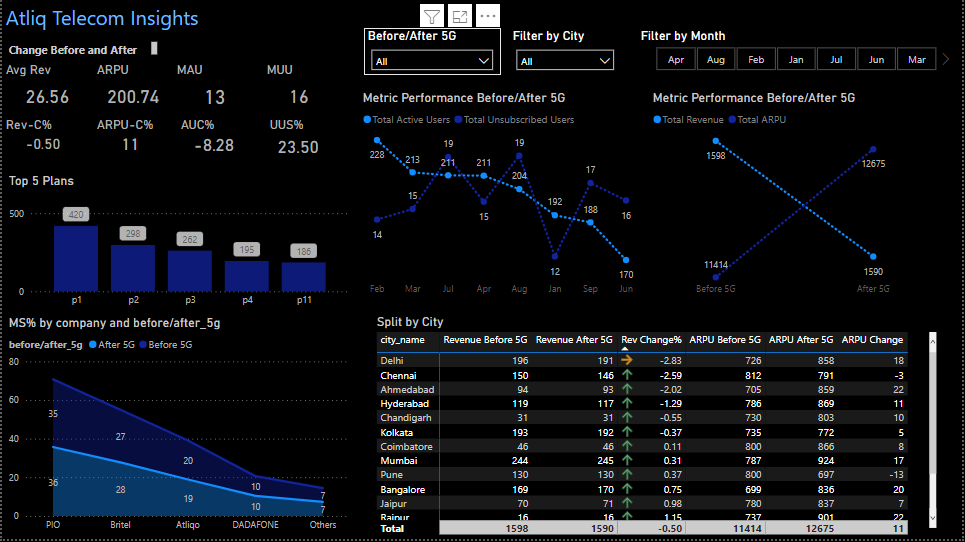

The dashboard page shown, as its layout file describes it:
{"tool":"powerbi","page":{"name":"Page 1","canvas":[1280,720],"ordinal":0},"visuals":[{"type":"card","title":"Avg Rev","fields":{"Values":["dim_cities.Avg Revenue"]},"box":[0,83.5,120.8,73.3],"z":0},{"type":"card","title":"ARPU","fields":{"Values":["dim_cities.ARPU"]},"box":[120.8,83.5,106.7,73.3],"z":1000},{"type":"card","title":"MUU","fields":{"Values":["dim_cities.Monthly Unsubscribed Users"]},"box":[348.3,83.5,95.1,73.3],"z":2000},{"type":"card","title":"Rev-C%","fields":{"Values":["dim_cities.Rev Change%"]},"box":[0,156.8,109.2,54],"z":3000},{"type":"card","title":"ARPU-C%","fields":{"Values":["dim_cities.ARPU Change"]},"box":[120.8,156.8,99,54],"z":4000},{"type":"card","title":"MAU","fields":{"Values":["dim_cities.UPM"]},"box":[227.5,83.5,110.5,73.3],"z":5000},{"type":"card","title":"AUC%","fields":{"Values":["dim_cities.Active Users Change%"]},"box":[233.9,156.8,97.7,54],"z":6000},{"type":"card","title":"UUS%","fields":{"Values":["dim_cities.Unsubscribed Users change%"]},"box":[352.1,156.8,86.1,60.4],"z":7000},{"type":"textbox","box":[4.1,52.3,207.8,31.7],"z":8000},{"type":"pivotTable","title":"Split by City","fields":{"Rows":["dim_cities.city_name"],"Values":["dim_cities.Revenue Before 5G","dim_cities.Revenue After 5G","dim_cities.Rev Change%","dim_cities.ARPU Before 5G","dim_cities.ARPU After 5G","dim_cities.ARPU Change"]},"box":[494.8,420.2,755.7,299.4],"z":9000},{"type":"slicer","title":"Before/After 5G","fields":{"Values":["dim_date.before/after_5g"]},"box":[483.2,38.6,182.5,63],"z":10000},{"type":"slicer","title":"Filter by Month","fields":{"Values":["dim_date.month_name"]},"box":[846.9,38.6,422.8,63],"z":11000},{"type":"slicer","title":"Filter by City","fields":{"Values":["dim_cities.city_name"]},"box":[676,38.6,150.4,63],"z":12000},{"type":"lineChart","title":"Metric Performance Before/After 5G","fields":{"Y":["dim_cities.Total Revenue"],"Category":["dim_date.before/after_5g"],"Y2":["dim_cities.Total ARPU"]},"box":[863,121.1,388.1,283.5],"z":13000},{"type":"lineStackedColumnComboChart","title":"Top 5 Plans","fields":{"Category":["fact_plan_revenue.plans"],"Y":["Sum(fact_plan_revenue.plan_revenue_crores)"]},"box":[3.9,232.6,465.2,187.6],"z":14000},{"type":"lineChart","title":"Metric Performance Before/After 5G","fields":{"Y":["dim_cities.Total Active Users"],"Y2":["dim_cities.Total Unsubscribed Users"],"Category":["dim_date.month_name"]},"box":[476.2,121.1,379.9,283.5],"z":15000},{"type":"stackedAreaChart","fields":{"Category":["fact_market_share.company"],"Y":["dim_cities.MS%"],"Series":["dim_date.before/after_5g"]},"box":[4,421,465,298],"z":16000},{"type":"textbox","box":[0,0,276.6,56.4],"z":16001}]}

Visuals, with their boxes in screenshot pixels (x1, y1, x2, y2), scaled from the page's 1280x720 canvas onto the 965x542 screenshot:
"Avg Rev" card: <box>0,63,91,118</box>
"ARPU" card: <box>91,63,172,118</box>
"MUU" card: <box>263,63,334,118</box>
"Rev-C%" card: <box>0,118,82,159</box>
"ARPU-C%" card: <box>91,118,166,159</box>
"MAU" card: <box>172,63,255,118</box>
"AUC%" card: <box>176,118,250,159</box>
"UUS%" card: <box>265,118,330,164</box>
textbox: <box>3,39,160,63</box>
"Split by City" pivotTable: <box>373,316,943,541</box>
"Before/After 5G" slicer: <box>364,29,502,76</box>
"Filter by Month" slicer: <box>638,29,957,76</box>
"Filter by City" slicer: <box>510,29,623,76</box>
"Metric Performance Before/After 5G" lineChart: <box>651,91,943,305</box>
"Top 5 Plans" lineStackedColumnComboChart: <box>3,175,354,316</box>
"Metric Performance Before/After 5G" lineChart: <box>359,91,645,305</box>
stackedAreaChart - fact_market_share.company x dim_cities.MS%: <box>3,317,354,541</box>
textbox: <box>0,0,209,42</box>
